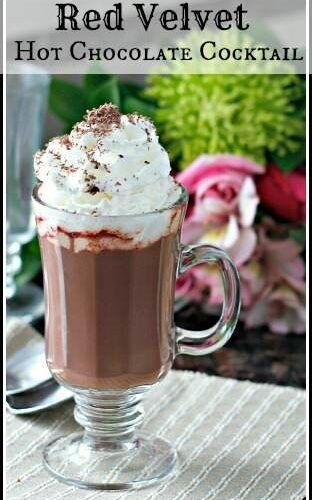glass-mug: (26, 147, 243, 494)
